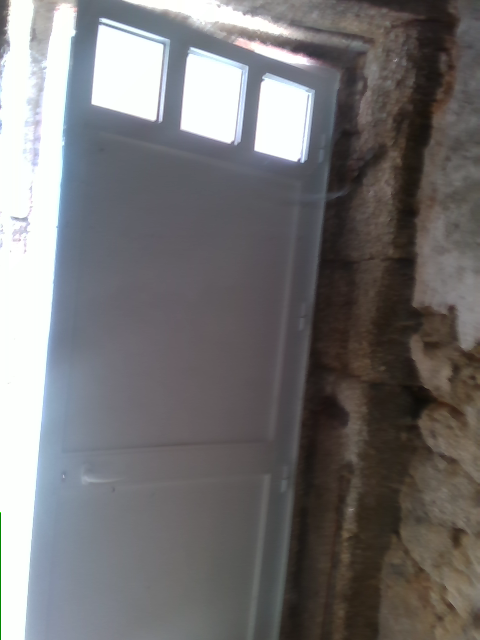closed: (3, 2, 353, 637)
